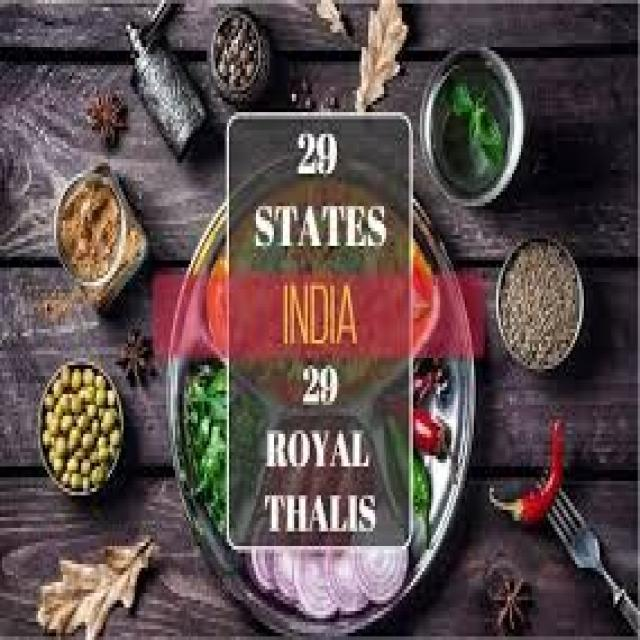rice: (145, 52, 201, 148)
veg-fry: (54, 175, 131, 284)
